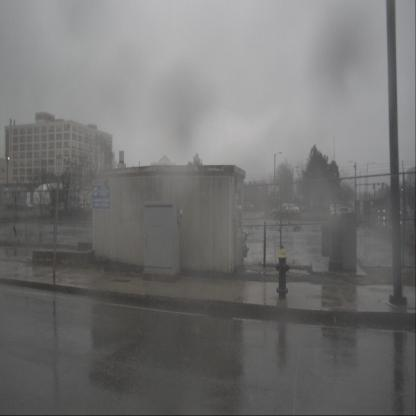vehicle-car: (330, 206, 352, 221), (270, 207, 290, 219), (50, 202, 66, 216), (272, 205, 290, 217), (282, 203, 300, 215), (16, 200, 34, 211), (74, 202, 90, 214), (329, 204, 344, 213)
